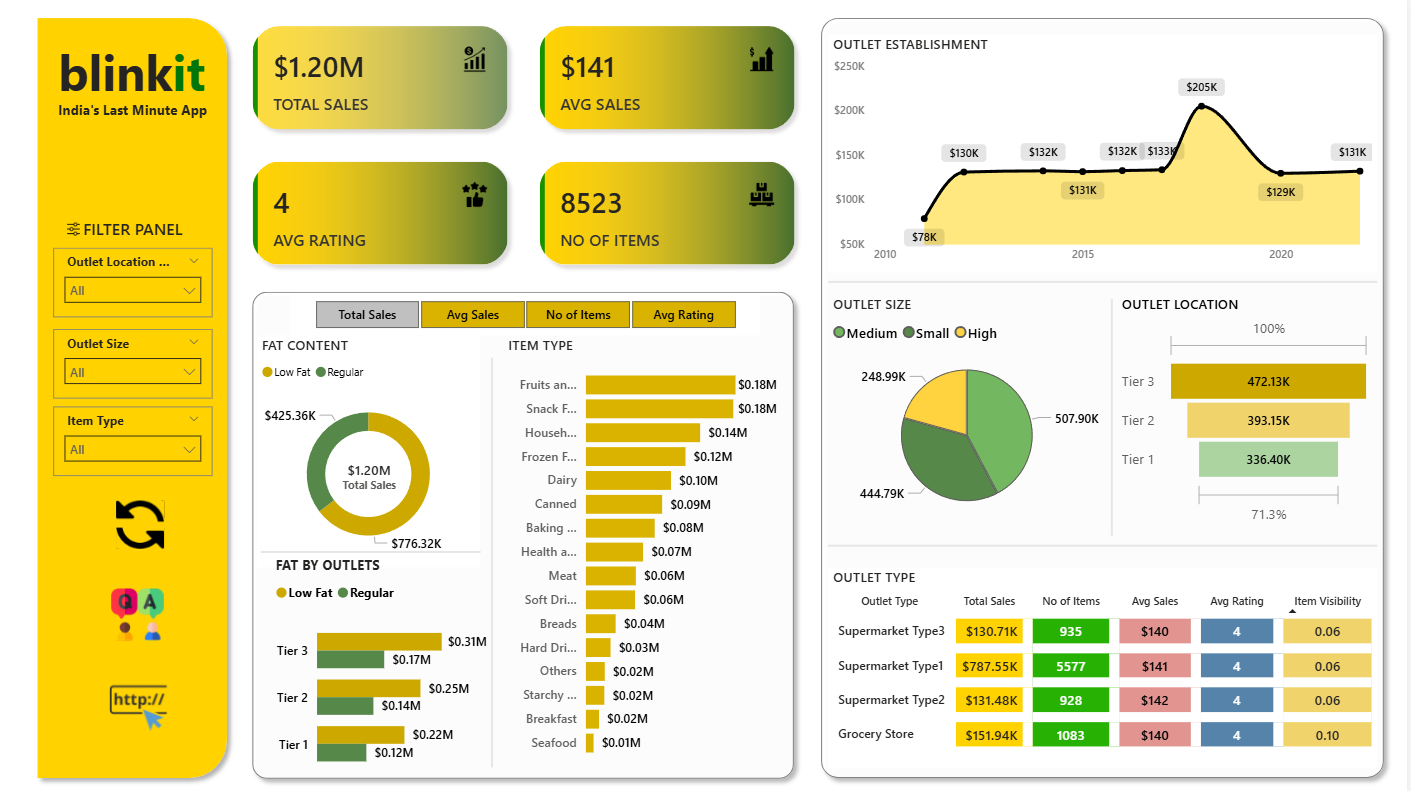

Layout of this report page (visuals, bound fields, positions):
{"tool":"powerbi","page":{"name":"Page 1","canvas":[1400,800],"ordinal":0},"visuals":[{"type":"shape","box":[36,15,205.6,769.9],"z":0},{"type":"textbox","box":[60,39,157.6,90.1],"z":1000},{"type":"textbox","box":[289.7,672.4,205.6,93.1],"z":2000},{"type":"textbox","box":[60,100.6,169.6,57],"z":3000},{"type":"cardVisual","fields":{"Data":["BlinkIT Grocery Data.Total Sales","BlinkIT Grocery Data.Avg Sales","BlinkIT Grocery Data.Avg Rating","BlinkIT Grocery Data.No of Items"]},"box":[241.6,15,570.3,270.2],"z":4000},{"type":"shape","box":[249.1,285.2,553.8,499.8],"z":5000},{"type":"donutChart","title":"FAT CONTENT","fields":{"Y":["BlinkIT Grocery Data.Total Sales"],"Category":["BlinkIT Grocery Data.Item Fat Content"]},"box":[262.7,337.7,220.6,229.6],"z":6000},{"type":"slicer","fields":{"Values":["Metrics.Metrics"]},"box":[294.2,297.2,465.3,40.5],"z":7000},{"type":"cardVisual","fields":{"Data":["BlinkIT Grocery Data.Total Sales"]},"box":[318.2,436.8,111.1,81],"z":8000},{"type":"clusteredBarChart","title":"FAT BY OUTLETS","fields":{"Y":["BlinkIT Grocery Data.Total Sales"],"Category":["BlinkIT Grocery Data.Outlet Location Type"],"Series":["BlinkIT Grocery Data.Item Fat Content"]},"box":[276.2,555.3,219.1,229.6],"z":9000},{"type":"shape","box":[265.7,535.8,217.6,33],"z":10000},{"type":"shape","box":[490.8,360.2,7.5,405.2],"z":11000},{"type":"barChart","title":"ITEM TYPE","fields":{"Y":["BlinkIT Grocery Data.Total Sales"],"Category":["BlinkIT Grocery Data.Item Type"]},"box":[505.8,337.7,276.2,427.7],"z":12000},{"type":"shape","box":[812,15,574.8,769.9],"z":13000},{"type":"lineChart","title":"OUTLET ESTABLISHMENT ","fields":{"Y":["BlinkIT Grocery Data.Total Sales"],"Category":["BlinkIT Grocery Data.Outlet Establishment Year"]},"box":[827,39,543.3,235.6],"z":14000},{"type":"shape","box":[827,268.7,543.3,33],"z":15000},{"type":"pieChart","title":"OUTLET SIZE","fields":{"Y":["BlinkIT Grocery Data.Total Sales"],"Category":["BlinkIT Grocery Data.Outlet Size"]},"box":[827,297.2,274.7,232.6],"z":16000},{"type":"shape","box":[1101.6,301.7,12,234.1],"z":17000},{"type":"funnel","title":"OUTLET LOCATION","fields":{"Y":["Sum(BlinkIT Grocery Data.Sales)"],"Category":["BlinkIT Grocery Data.Outlet Location Type"]},"box":[1113.6,297.2,256.6,232.6],"z":18000},{"type":"shape","box":[827,529.8,543.3,33],"z":19000},{"type":"pivotTable","title":"OUTLET TYPE","fields":{"Values":["BlinkIT Grocery Data.Total Sales","BlinkIT Grocery Data.No of Items","BlinkIT Grocery Data.Avg Sales","BlinkIT Grocery Data.Avg Rating","Avg(BlinkIT Grocery Data.Item Visibility)"],"Rows":["BlinkIT Grocery Data.Outlet Type"]},"box":[827,567.3,543.3,198.1],"z":20000},{"type":"slicer","fields":{"Values":["BlinkIT Grocery Data.Outlet Location Type"]},"box":[60,250.6,157.6,69],"z":21000},{"type":"slicer","fields":{"Values":["BlinkIT Grocery Data.Outlet Size"]},"box":[60,331.7,157.6,69],"z":22000},{"type":"slicer","fields":{"Values":["BlinkIT Grocery Data.Item Type"]},"box":[60,408.2,157.6,69],"z":23000},{"type":"textbox","box":[60,216.1,157.6,34.5],"z":24000},{"type":"actionButton","box":[105.7,497.1,82.9,55.7],"z":25000},{"type":"actionButton","box":[102.9,584.3,82.9,60],"z":27000},{"type":"actionButton","box":[105.7,670,80,68.6],"z":28000},{"type":"image","box":[60,221.4,40,22.9],"z":29000}]}

Visuals, with their boxes in screenshot pixels (x1, y1, x2, y2), scaled from the page's 1400x800 canvas onto the 1411x791 screenshot:
shape: bbox=[36, 15, 243, 776]
textbox: bbox=[60, 39, 219, 128]
textbox: bbox=[292, 665, 499, 757]
textbox: bbox=[60, 99, 231, 156]
cardVisual - BlinkIT Grocery Data.Total Sales x BlinkIT Grocery Data.Avg Sales: bbox=[243, 15, 818, 282]
shape: bbox=[251, 282, 809, 776]
"FAT CONTENT" donutChart: bbox=[265, 334, 487, 561]
slicer - Metrics.Metrics: bbox=[297, 294, 765, 334]
cardVisual - BlinkIT Grocery Data.Total Sales: bbox=[321, 432, 433, 512]
"FAT BY OUTLETS" clusteredBarChart: bbox=[278, 549, 499, 776]
shape: bbox=[268, 530, 487, 562]
shape: bbox=[495, 356, 502, 757]
"ITEM TYPE" barChart: bbox=[510, 334, 788, 757]
shape: bbox=[818, 15, 1398, 776]
"OUTLET ESTABLISHMENT " lineChart: bbox=[833, 39, 1381, 272]
shape: bbox=[833, 266, 1381, 298]
"OUTLET SIZE" pieChart: bbox=[833, 294, 1110, 524]
shape: bbox=[1110, 298, 1122, 530]
"OUTLET LOCATION" funnel: bbox=[1122, 294, 1381, 524]
shape: bbox=[833, 524, 1381, 556]
"OUTLET TYPE" pivotTable: bbox=[833, 561, 1381, 757]
slicer - BlinkIT Grocery Data.Outlet Location Type: bbox=[60, 248, 219, 316]
slicer - BlinkIT Grocery Data.Outlet Size: bbox=[60, 328, 219, 396]
slicer - BlinkIT Grocery Data.Item Type: bbox=[60, 404, 219, 472]
textbox: bbox=[60, 214, 219, 248]
actionButton: bbox=[107, 492, 190, 547]
actionButton: bbox=[104, 578, 187, 637]
actionButton: bbox=[107, 662, 187, 730]
image: bbox=[60, 219, 101, 242]
